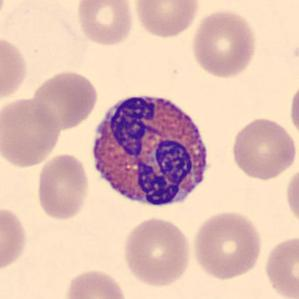Eosinophil: (85, 84, 218, 218)
RBC: (189, 208, 265, 281), (120, 215, 194, 288), (189, 6, 259, 80), (0, 94, 63, 170), (228, 114, 298, 182), (28, 68, 100, 130), (34, 152, 91, 222), (75, 0, 136, 48), (131, 0, 201, 39), (261, 232, 299, 299), (62, 267, 130, 299), (0, 32, 30, 104), (0, 204, 30, 274), (283, 163, 299, 230), (287, 79, 299, 139), (0, 0, 8, 30)
